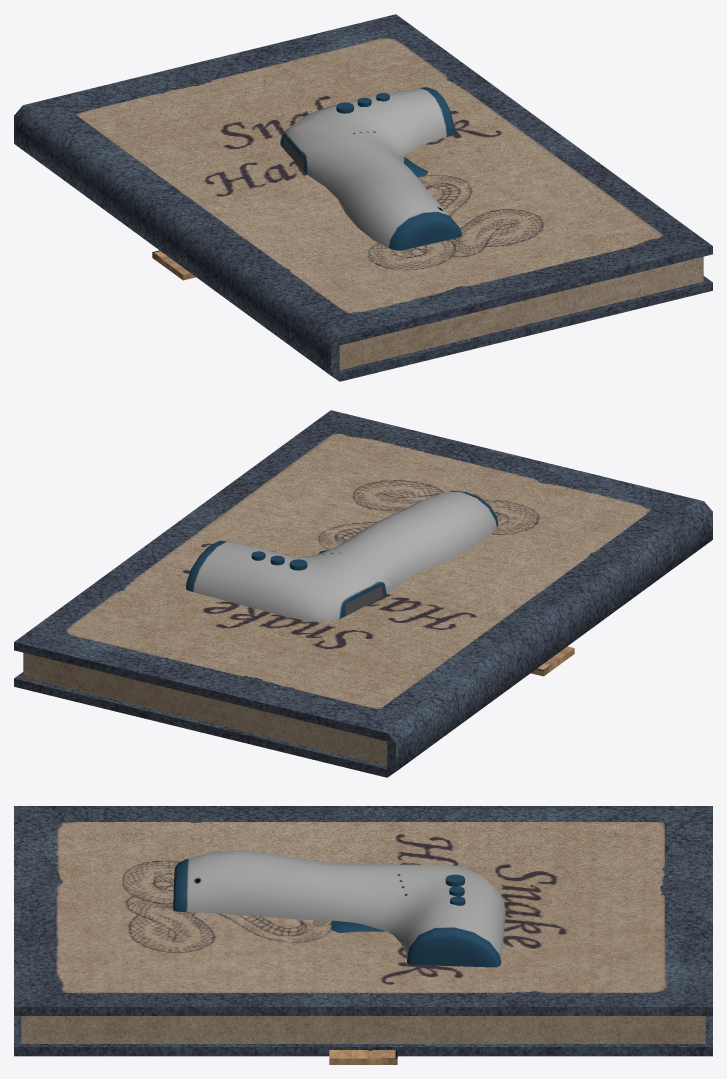
The model's file is Tools.glb.
3 views of the same model, one above another, from view 1: azimuth 30°, elevation 25°; view 2: azimuth 150°, elevation 25°; view 3: azimuth 270°, elevation 25° (orthographic). The views are drawn at different scales.
Parts seen in each view (by area): view 1: Book, Thermometer; view 2: Book, Thermometer; view 3: Book, Thermometer, Ruler.
Part boxes in pixels (left/top/right/bottom): Book: left=14, top=14, right=712, bottom=381; Thermometer: left=280, top=87, right=461, bottom=250; Book: left=14, top=410, right=712, bottom=777; Thermometer: left=186, top=490, right=498, bottom=621; Book: left=14, top=806, right=712, bottom=1056; Thermometer: left=173, top=849, right=505, bottom=967; Ruler: left=329, top=1050, right=397, bottom=1064.
Size of the model in its own units: 0.15 by 0.0285 by 0.2042.
Materials: 1 (1 with a texture image).
